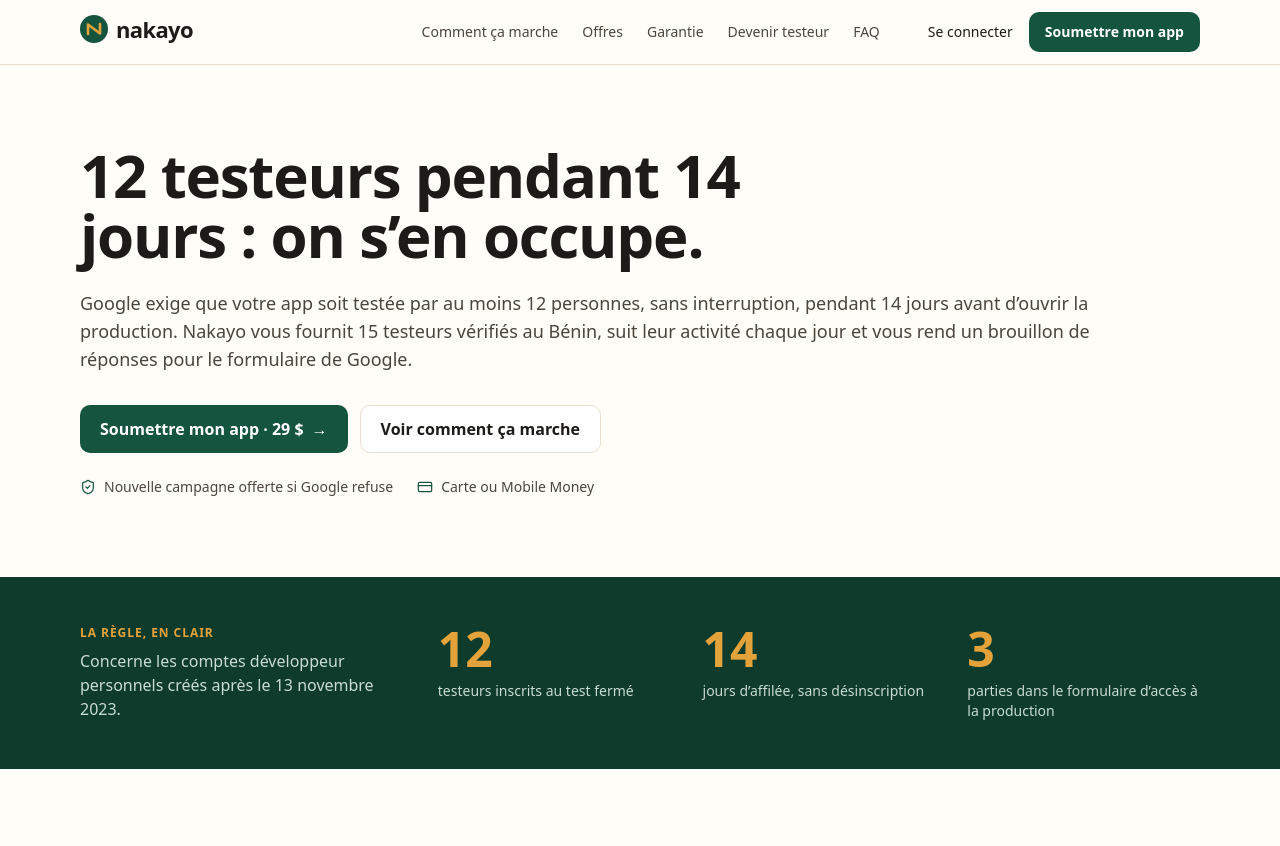
it: Navigation › mène de l’accueil à l’inscription
What coordinates should you click on to do the following:
click the link "Soumettre mon app · 29 $ →"
I would click on:
 (214, 429)
Its box is x1=80 y1=405 x2=348 y2=453.
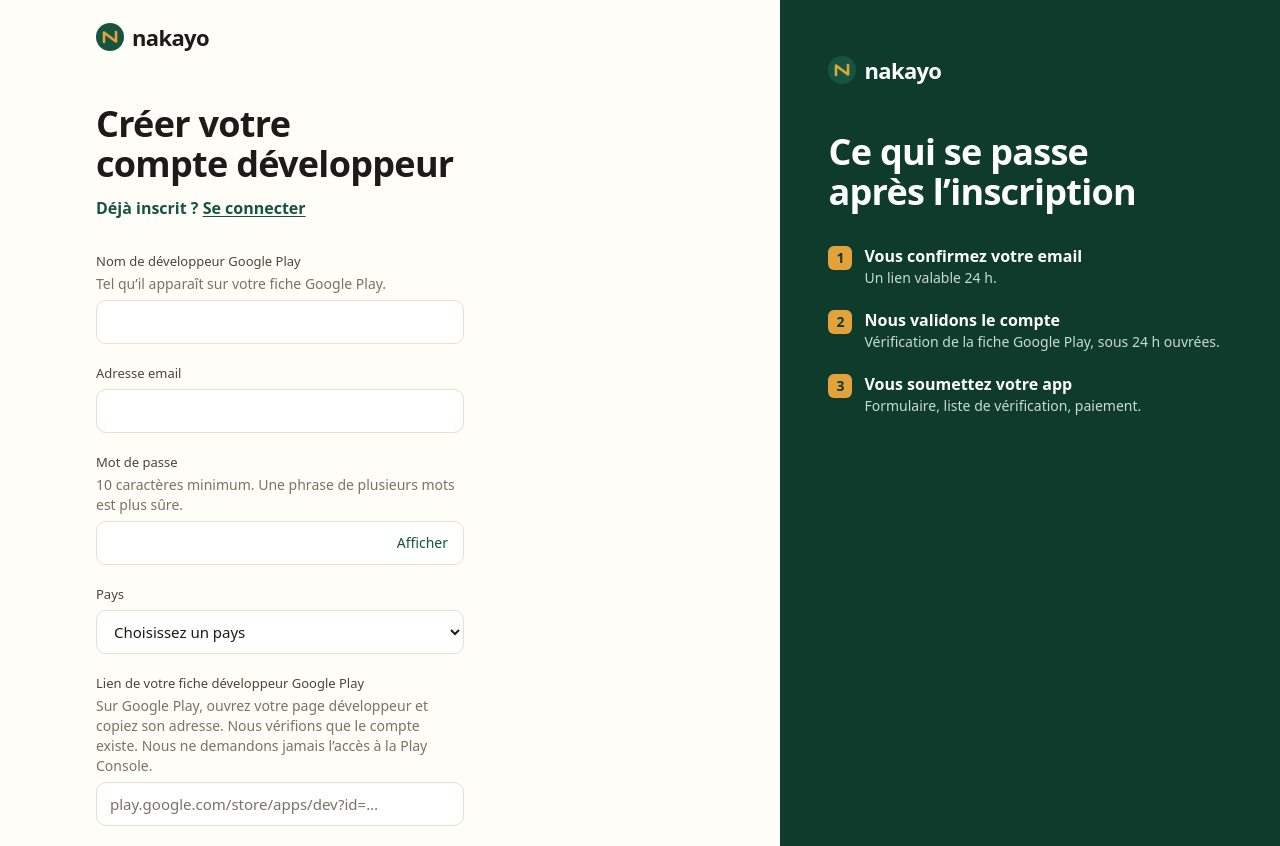
Now the heading "Créer votre compte développeur" is shown, box x1=96 y1=104 x2=464 y2=184
